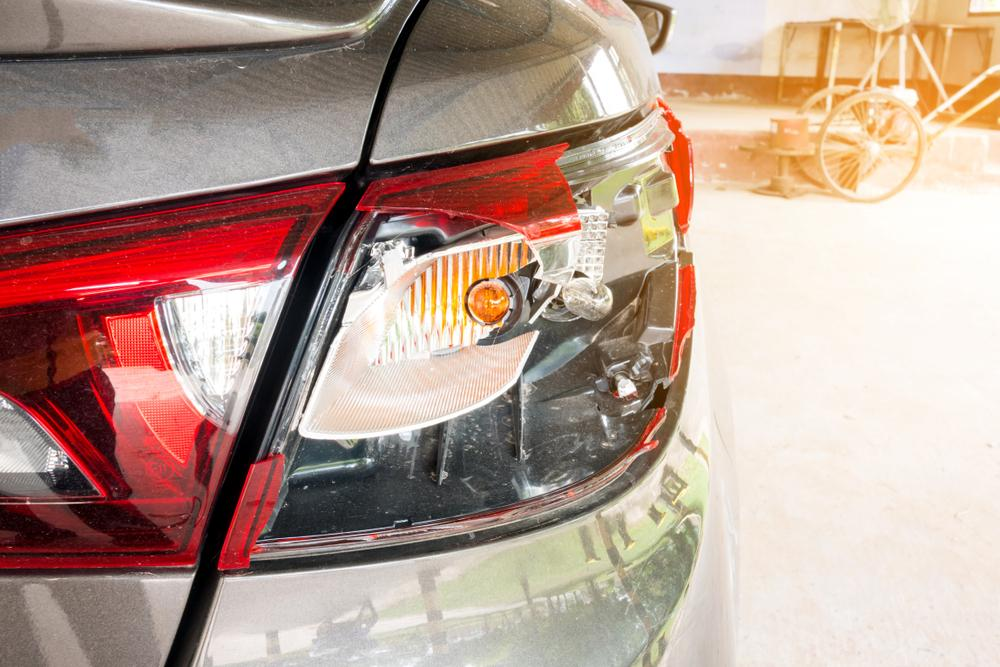lamp broken: (215, 99, 696, 572)
